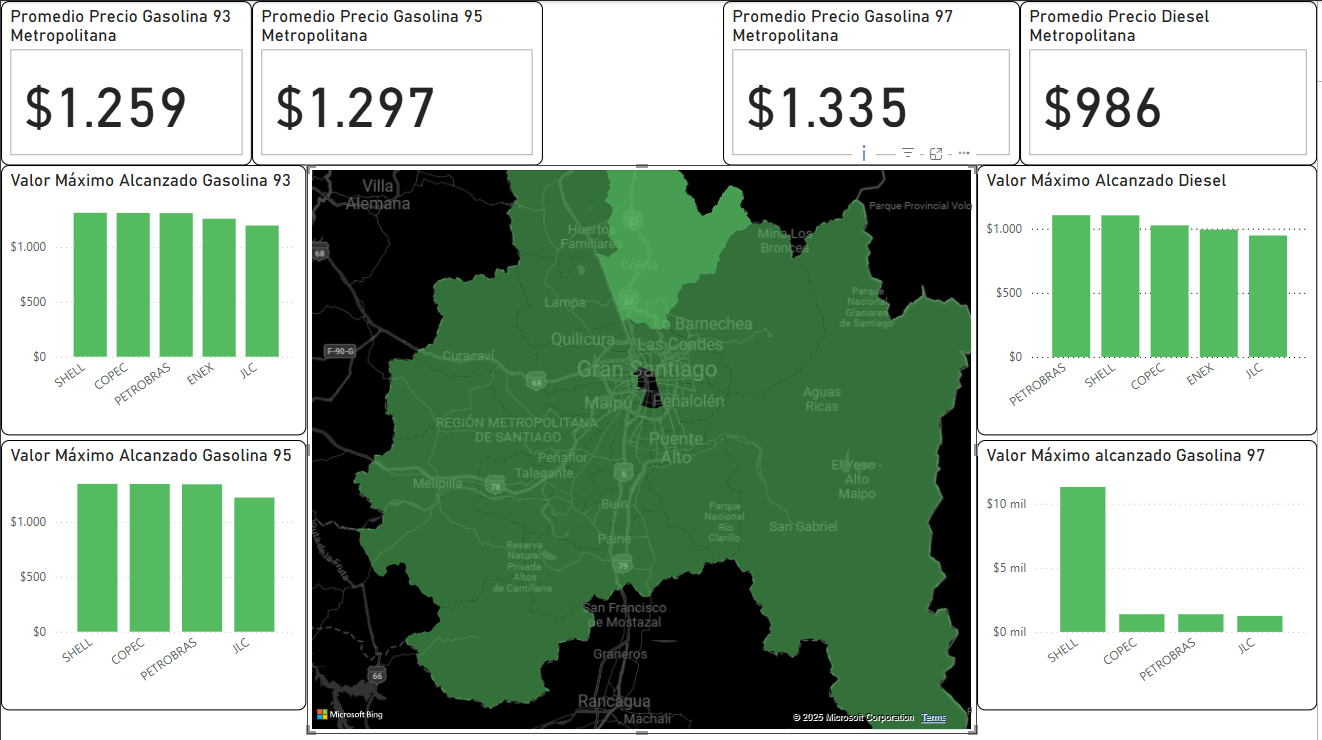

This screenshot's page, from the dashboard's own definition file:
{"tool":"powerbi","page":{"name":"Página 1","canvas":[1280,720],"ordinal":0},"visuals":[{"type":"cardVisual","title":"Promedio Precio Gasolina 93 Metropolitana","fields":{"Data":["Tabla1.Promedio_Gasolina93"]},"box":[0,0,244.4,159.9],"z":0},{"type":"cardVisual","title":"Promedio Precio Gasolina 95 Metropolitana","fields":{"Data":["Tabla1.Promedio_Gasolina95"]},"box":[244.4,0,282.6,159.9],"z":1000},{"type":"cardVisual","title":"Promedio Precio Gasolina 97 Metropolitana","fields":{"Data":["Tabla1.Promedio_Gasolina97"]},"box":[702.4,0,288.8,159.9],"z":2000},{"type":"cardVisual","title":"Promedio Precio Diesel Metropolitana","fields":{"Data":["Tabla1.Promedio_GasolinaDiesel"]},"box":[991.2,0,288.8,159.9],"z":3000},{"type":"columnChart","title":"Valor Máximo Alcanzado Gasolina 93","fields":{"Y":["Tabla1.ValorMaximo_Gasolina93"],"Category":["Tabla1.marca_nombre"]},"box":[0,159.6,297.5,262.7],"z":3001},{"type":"columnChart","title":"Valor Máximo Alcanzado Gasolina 95","fields":{"Category":["Tabla1.marca_nombre"],"Y":["Tabla1.ValorMaximo_Gasolina95"]},"box":[0,426.7,297.5,262.7],"z":3002},{"type":"columnChart","title":"Valor Máximo alcanzado Gasolina 97","fields":{"Category":["Tabla1.marca_nombre"],"Y":["Tabla1.ValorMaximo_Gasolina97"]},"box":[948.9,426.7,331.1,262.7],"z":3003},{"type":"columnChart","title":"Valor Máximo Alcanzado Diesel","fields":{"Category":["Tabla1.marca_nombre"],"Y":["Tabla1.ValorMaximo_GasolinaDiesel"]},"box":[948.9,159.6,331.1,262.7],"z":3004},{"type":"filledMap","fields":{"Category":["Tabla1.comuna_nombre"]},"box":[297.5,159.6,651.4,553.7],"z":3005}]}

Visuals, with their boxes in screenshot pixels (x1, y1, x2, y2), scaled from the page's 1280x720 canvas onto the 1322x740 screenshot:
"Promedio Precio Gasolina 93 Metropolitana" cardVisual: {"left": 0, "top": 0, "right": 252, "bottom": 164}
"Promedio Precio Gasolina 95 Metropolitana" cardVisual: {"left": 252, "top": 0, "right": 544, "bottom": 164}
"Promedio Precio Gasolina 97 Metropolitana" cardVisual: {"left": 725, "top": 0, "right": 1024, "bottom": 164}
"Promedio Precio Diesel Metropolitana" cardVisual: {"left": 1024, "top": 0, "right": 1321, "bottom": 164}
"Valor Máximo Alcanzado Gasolina 93" columnChart: {"left": 0, "top": 164, "right": 307, "bottom": 434}
"Valor Máximo Alcanzado Gasolina 95" columnChart: {"left": 0, "top": 439, "right": 307, "bottom": 709}
"Valor Máximo alcanzado Gasolina 97" columnChart: {"left": 980, "top": 439, "right": 1321, "bottom": 709}
"Valor Máximo Alcanzado Diesel" columnChart: {"left": 980, "top": 164, "right": 1321, "bottom": 434}
filledMap - Tabla1.comuna_nombre: {"left": 307, "top": 164, "right": 980, "bottom": 733}
